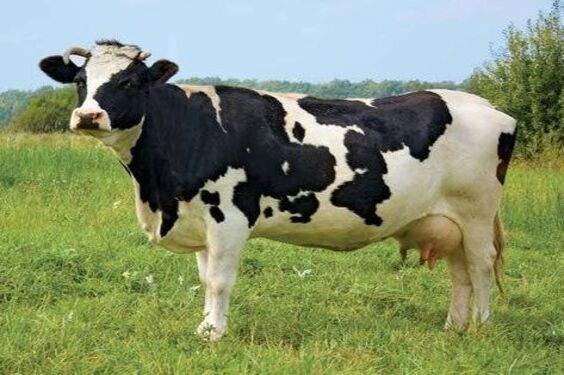bovino: (38, 36, 516, 342)
